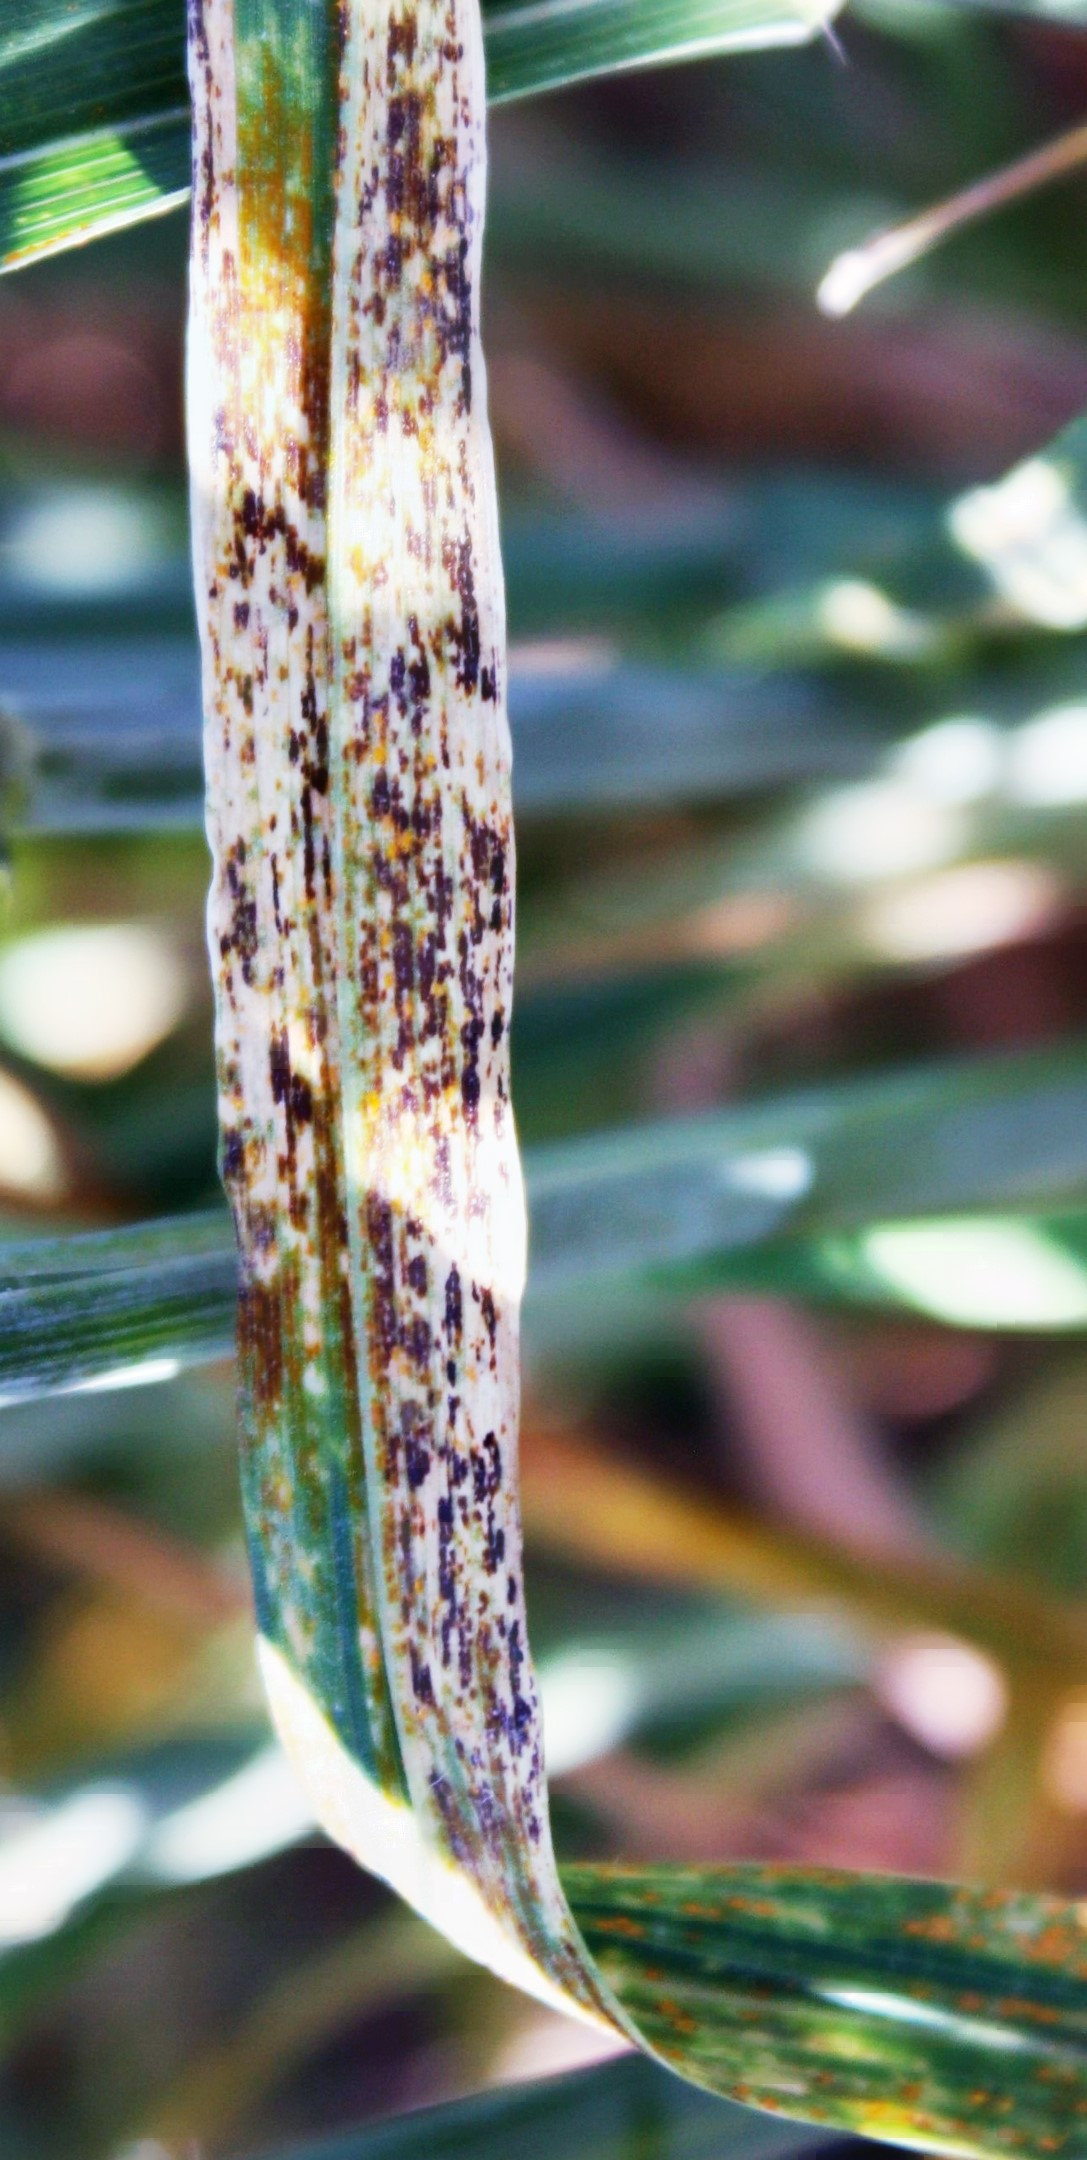Leaf Rust: (153, 130, 550, 1668)
